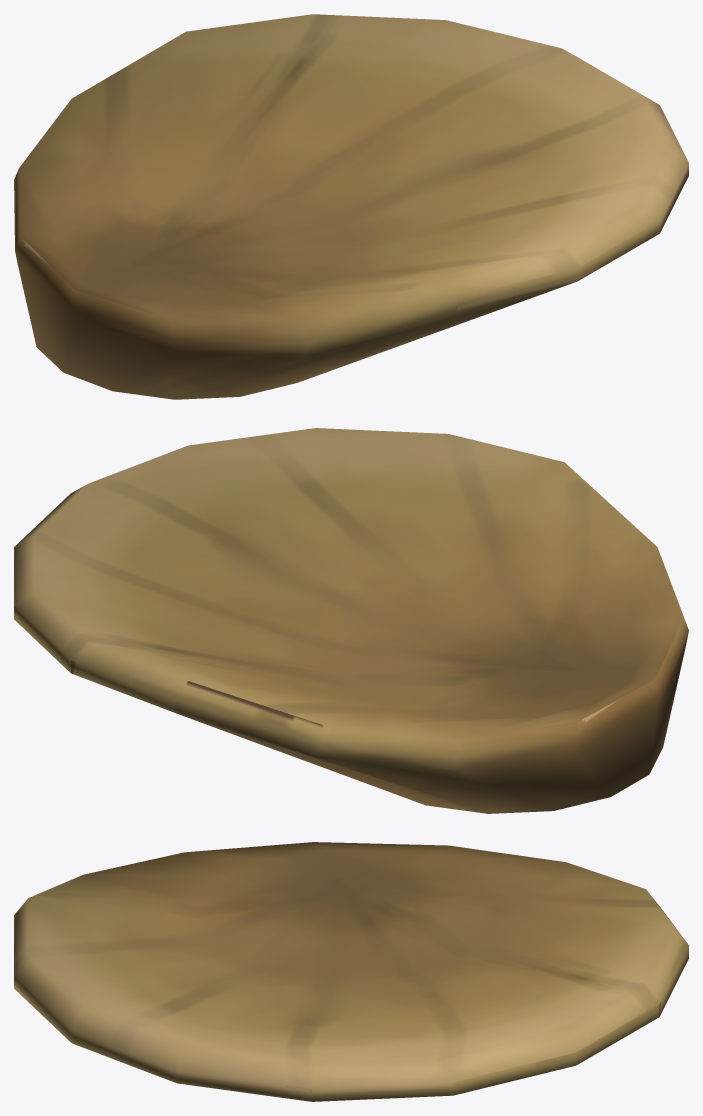
Rendered from Coral_v2.fbx.
3 renders of one model, top to bottom at view 1: azimuth 30°, elevation 25°; view 2: azimuth 150°, elevation 25°; view 3: azimuth 270°, elevation 25°, orthographic.
Parts seen in each view (by area): view 1: Corall_v2; view 2: Corall_v2; view 3: Corall_v2.
Part boxes in pixels (<box>): Corall_v2: <box>14,14,688,399</box>; Corall_v2: <box>14,428,688,813</box>; Corall_v2: <box>14,842,688,1101</box>.
Size of the model in its own units: 320 by 76.03 by 313.
